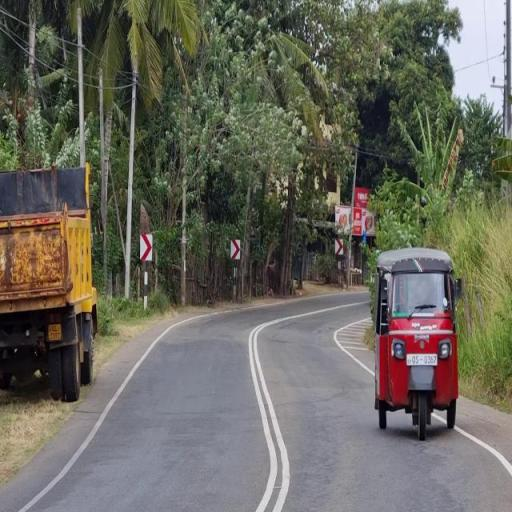double_white_line: (246, 319, 292, 511), (454, 426, 512, 474)
